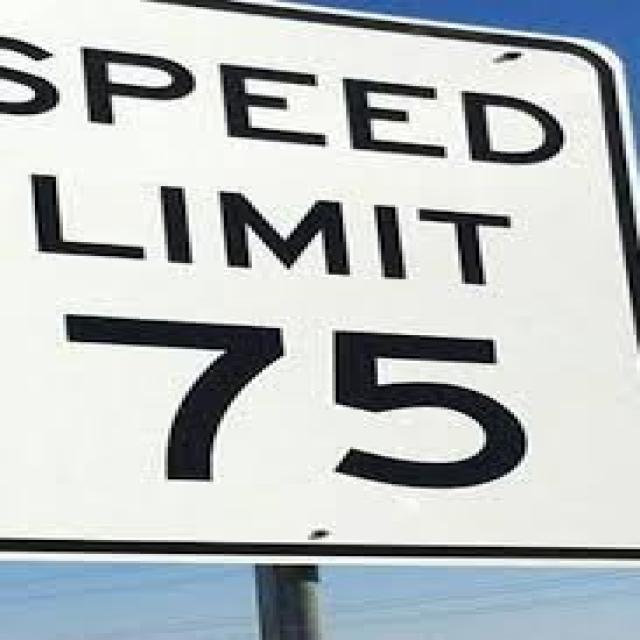speedLimit75: (7, 31, 626, 558)
